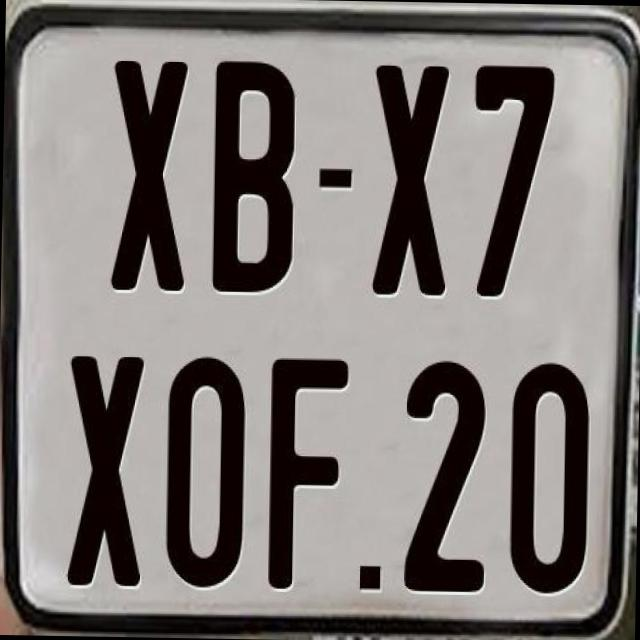0: (506, 357, 592, 598), (165, 351, 248, 586)
2: (404, 356, 492, 590)
7: (467, 64, 558, 304)
B: (212, 58, 300, 294)
F: (264, 357, 352, 588)
X: (371, 65, 455, 301), (62, 355, 144, 595), (110, 59, 190, 292)
